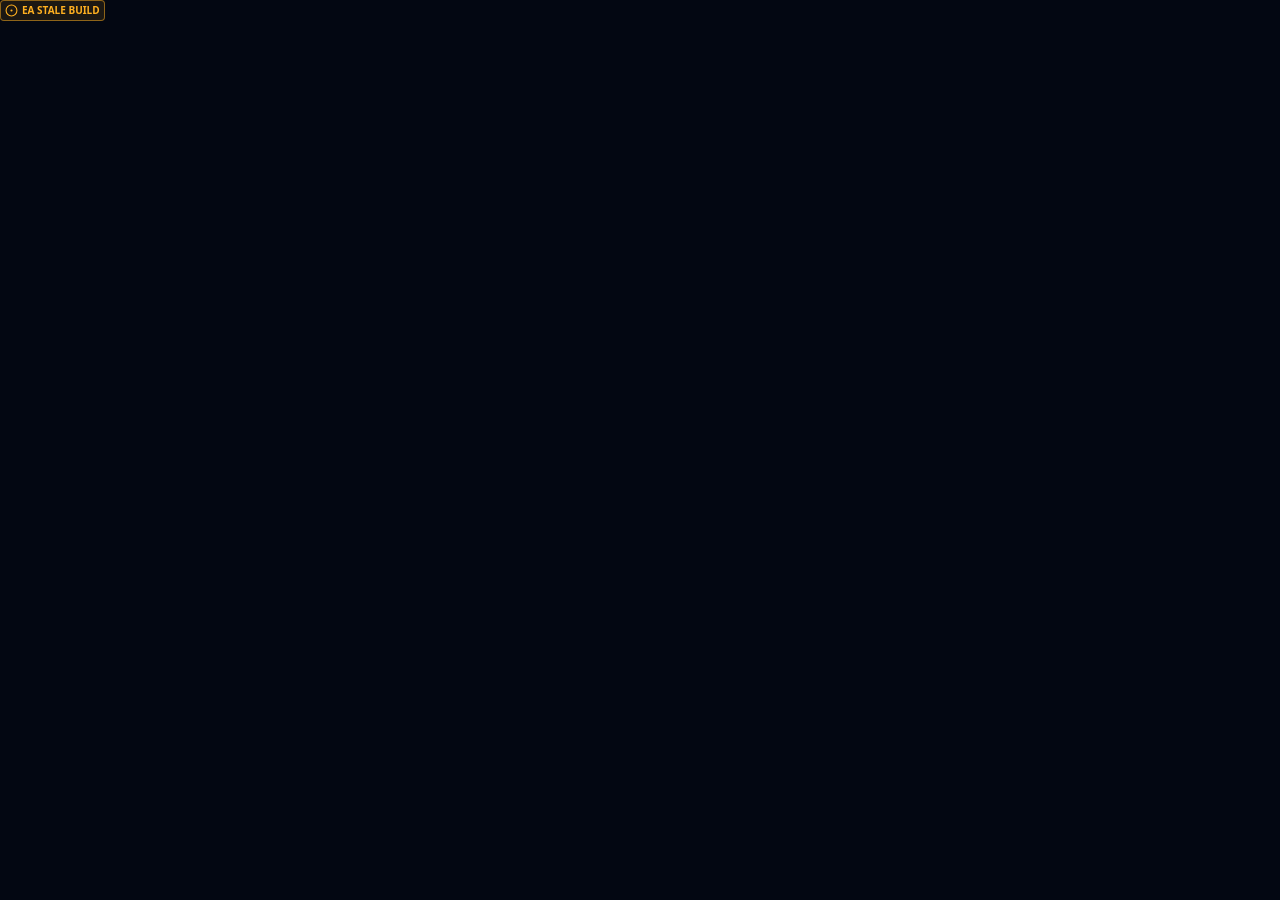
Scenario: the popup › says it is finished when nothing more is needed
The width and height of the screenshot is (1280, 900).
Click the button "EA STALE BUILD": {"x": 52, "y": 10} [0,0,105,21]
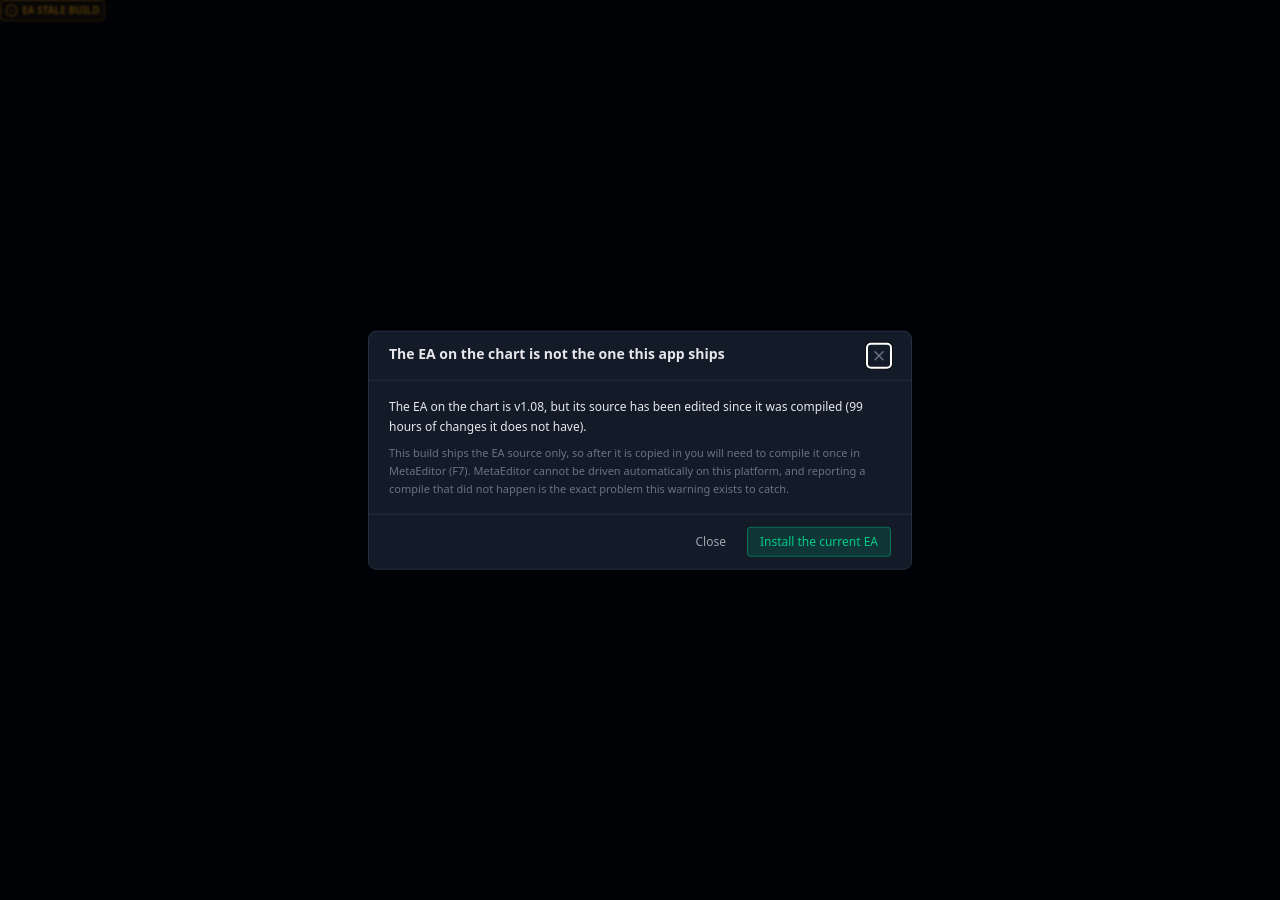
Click the button "Install the current EA": {"x": 819, "y": 541} [747,526,891,556]
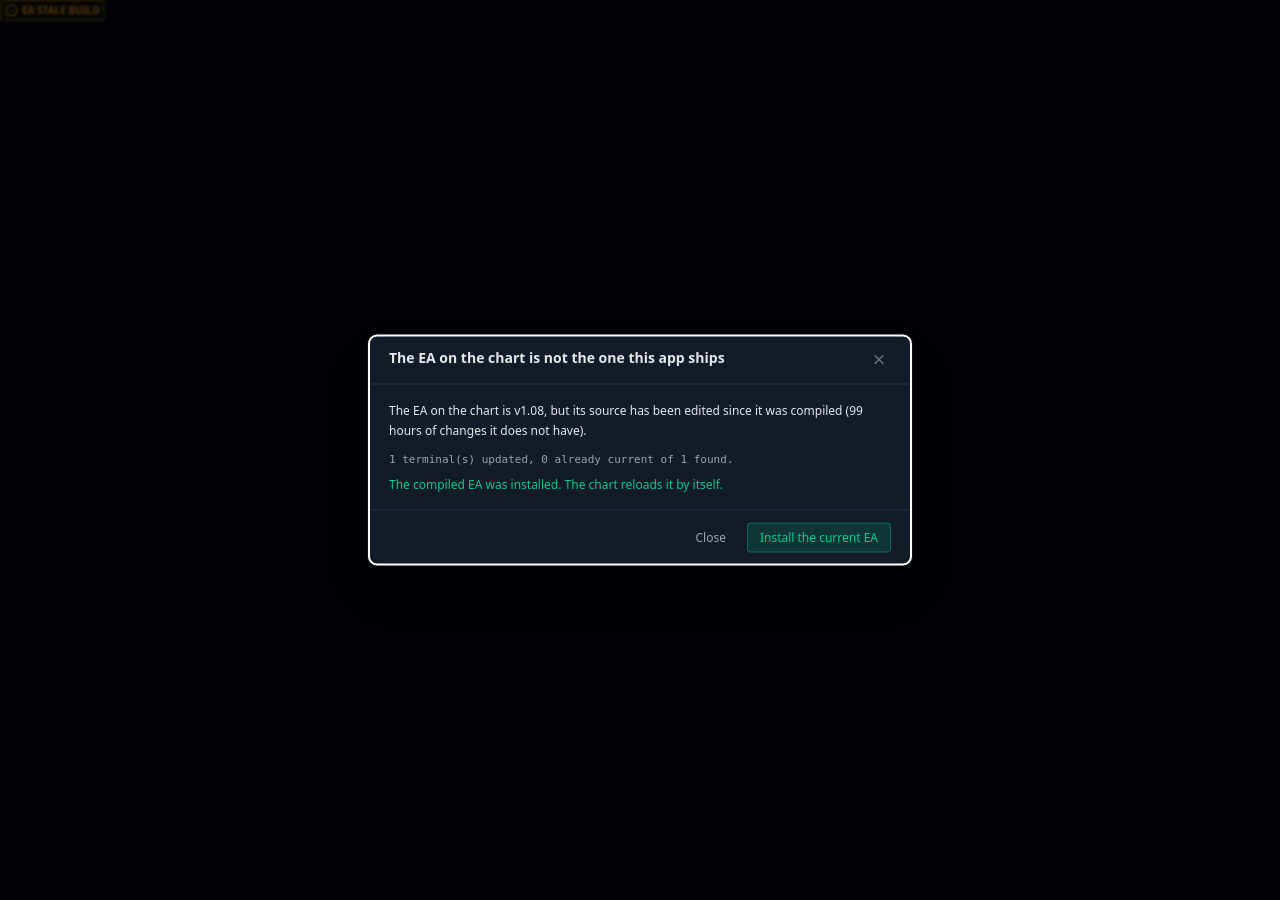
Check: the text "reloads it by itself" is shown, box [389,475,723,492]
